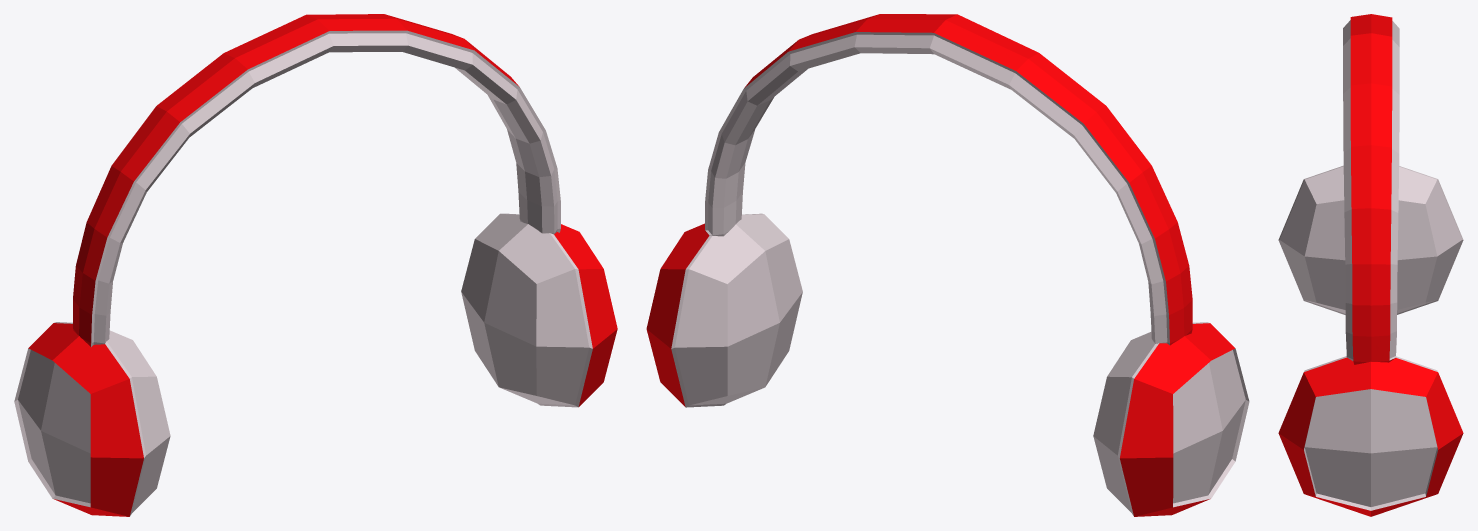
File: headphones.fbx
3 renders of one model, left to right at view 1: azimuth 30°, elevation 25°; view 2: azimuth 150°, elevation 25°; view 3: azimuth 270°, elevation 25°, orthographic. The views are drawn at different scales.
Parts seen in each view (by area): view 1: Ear Pods.003; view 2: Ear Pods.003; view 3: Ear Pods.003.
Boxes of the visible parts, <box> form: Ear Pods.003: <box>14,14,617,516</box>; Ear Pods.003: <box>646,14,1249,516</box>; Ear Pods.003: <box>1278,14,1463,516</box>.
Size of the model in its own units: 75.93 by 58.12 by 25.11.
